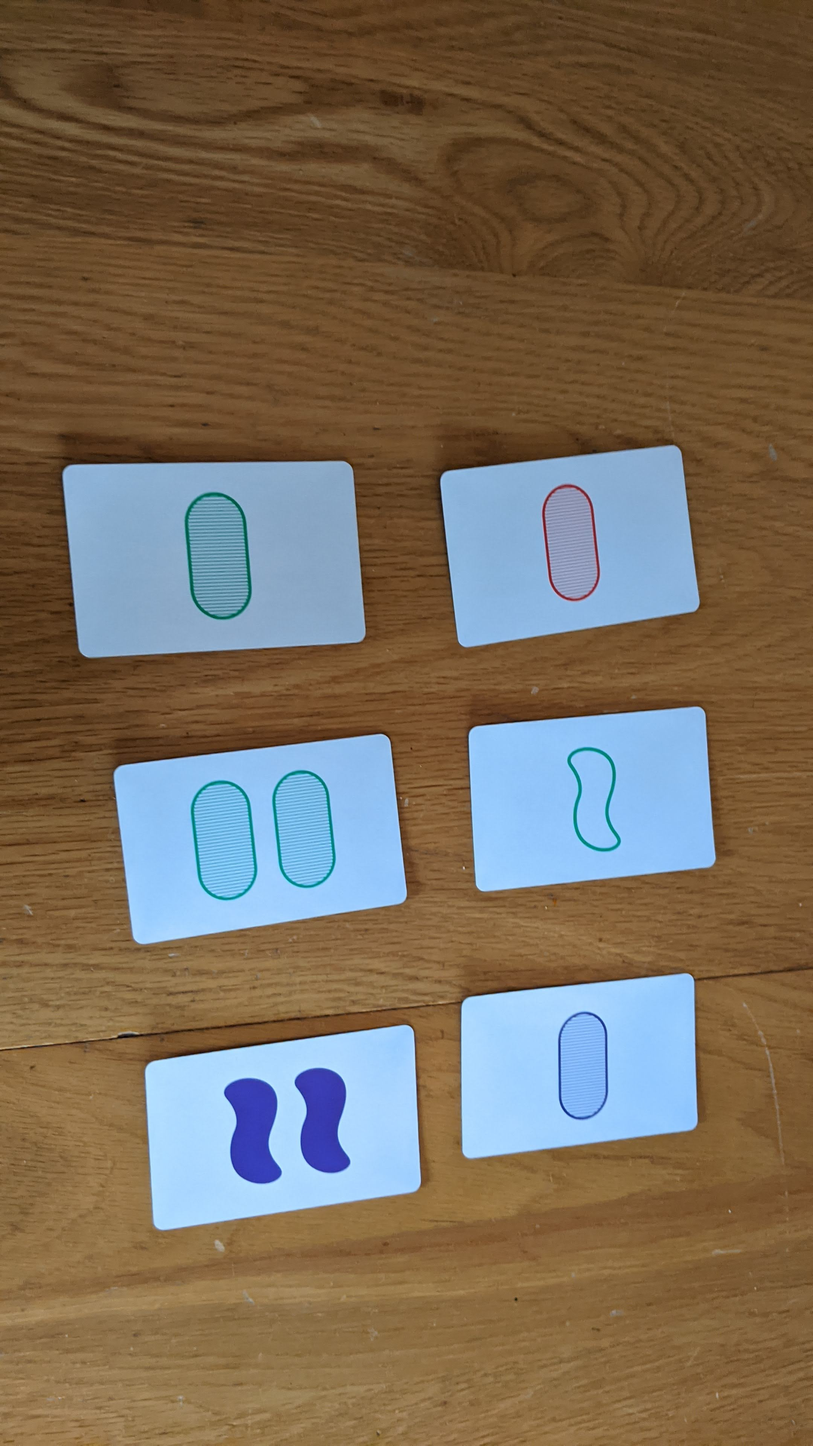card: (111, 733, 406, 947), (61, 459, 365, 653), (146, 1025, 422, 1229), (441, 446, 703, 647), (469, 708, 720, 891), (459, 973, 699, 1159)
